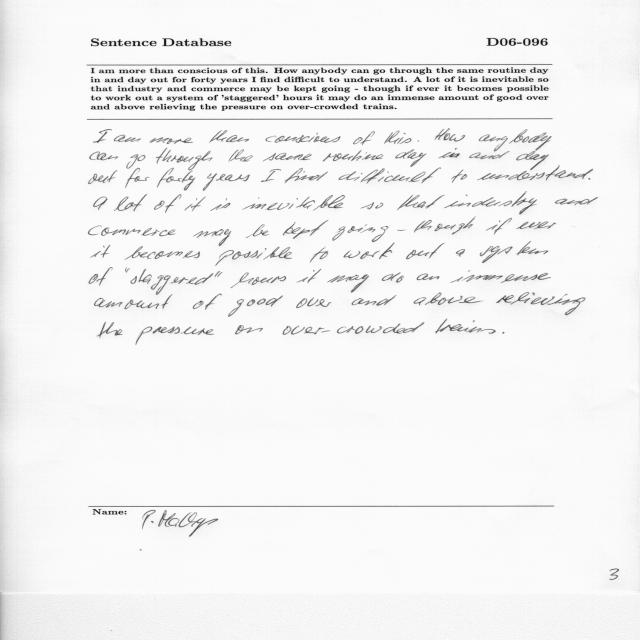word: (131, 269, 214, 295), (444, 192, 537, 215), (496, 293, 586, 316), (283, 322, 425, 335), (338, 167, 441, 184), (478, 166, 594, 181), (479, 130, 552, 152), (244, 195, 345, 210), (480, 241, 548, 263), (136, 326, 214, 345), (215, 247, 292, 266), (451, 270, 551, 283), (156, 149, 213, 171), (228, 295, 283, 317), (95, 294, 173, 309), (124, 246, 200, 260), (332, 224, 389, 242), (414, 218, 475, 234), (88, 226, 176, 237), (435, 319, 496, 334), (414, 293, 483, 306), (230, 272, 286, 288), (157, 168, 195, 191), (283, 220, 328, 239), (203, 173, 250, 191), (344, 243, 395, 259), (327, 275, 369, 293), (266, 133, 341, 143), (323, 150, 384, 162), (397, 195, 445, 210), (193, 229, 231, 246), (285, 168, 328, 183), (516, 151, 549, 170), (406, 243, 445, 259), (114, 194, 147, 211), (396, 149, 427, 167), (154, 194, 181, 213), (210, 130, 249, 143), (125, 168, 149, 188), (193, 294, 222, 310), (352, 295, 396, 305), (89, 268, 113, 286), (486, 218, 512, 234), (97, 322, 122, 338), (263, 153, 312, 161), (89, 170, 117, 184), (435, 129, 465, 142), (296, 297, 331, 308), (384, 131, 411, 144), (555, 197, 598, 205), (297, 269, 321, 283), (228, 149, 253, 162), (469, 151, 509, 159), (516, 222, 556, 230), (185, 197, 206, 212), (353, 131, 375, 145), (310, 246, 328, 263), (150, 137, 193, 144), (246, 225, 269, 238), (127, 154, 146, 169), (235, 325, 263, 335), (261, 169, 281, 182), (211, 198, 231, 211), (94, 129, 112, 143), (90, 152, 118, 161), (91, 245, 110, 258), (382, 273, 404, 283), (439, 148, 460, 158), (451, 170, 467, 183), (114, 135, 141, 142), (94, 197, 108, 210), (361, 202, 384, 209), (417, 274, 439, 281), (456, 249, 465, 257), (215, 271, 222, 277), (125, 268, 130, 273), (397, 230, 405, 231), (588, 178, 591, 180), (502, 332, 505, 334), (417, 140, 419, 142)
